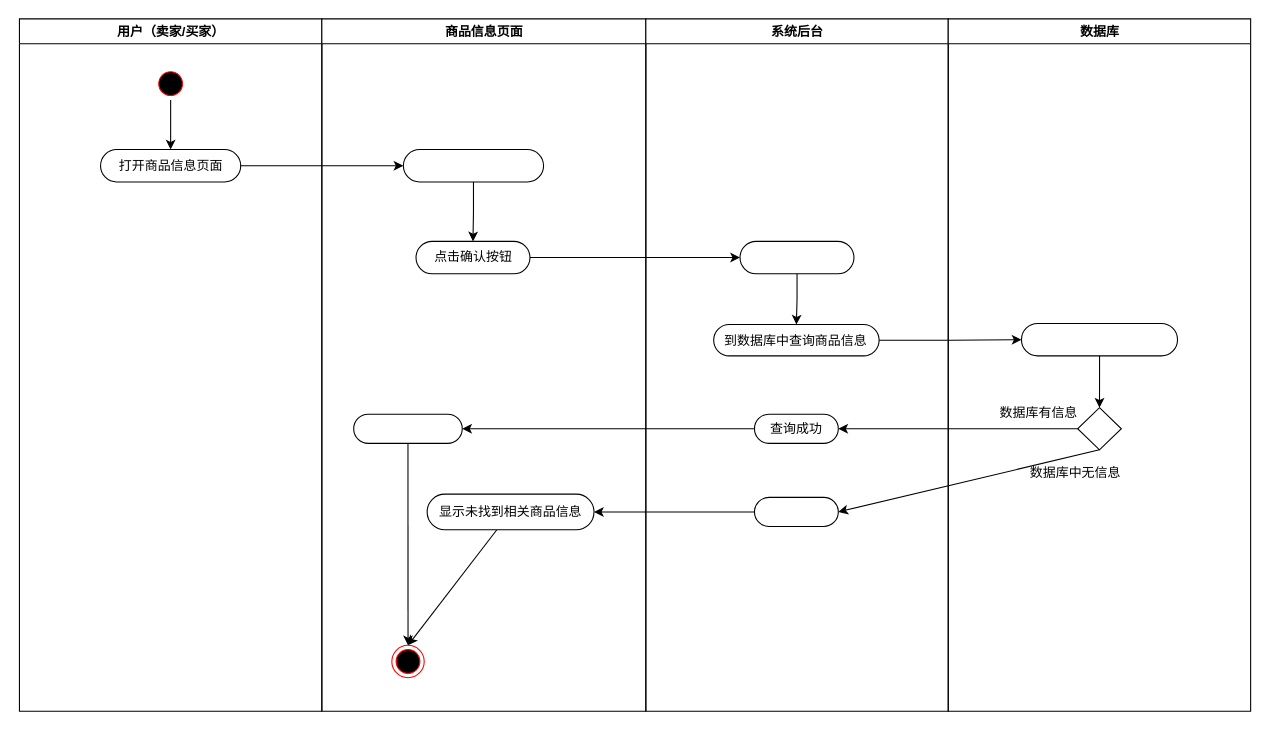
This 1269x730 diagram has some shape labels left out. Each missing label, with the centre of its shape:
"将信息发给后台" belongs at [796,257].
"展示商品信息" belongs at [407,428].
"查询商品信息" belongs at [1099,339].
"查询失败" belongs at [795,511].
"点击收藏按钮" belongs at [473,165].
